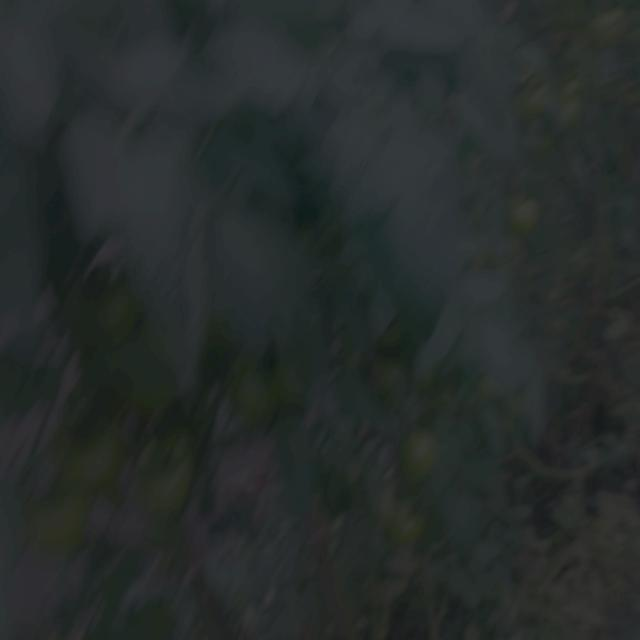tomato: (139, 436, 221, 541), (25, 495, 97, 563), (69, 290, 138, 344), (227, 363, 281, 430), (377, 497, 434, 554), (62, 432, 120, 483), (399, 427, 447, 485), (363, 344, 401, 404), (508, 190, 547, 235)
